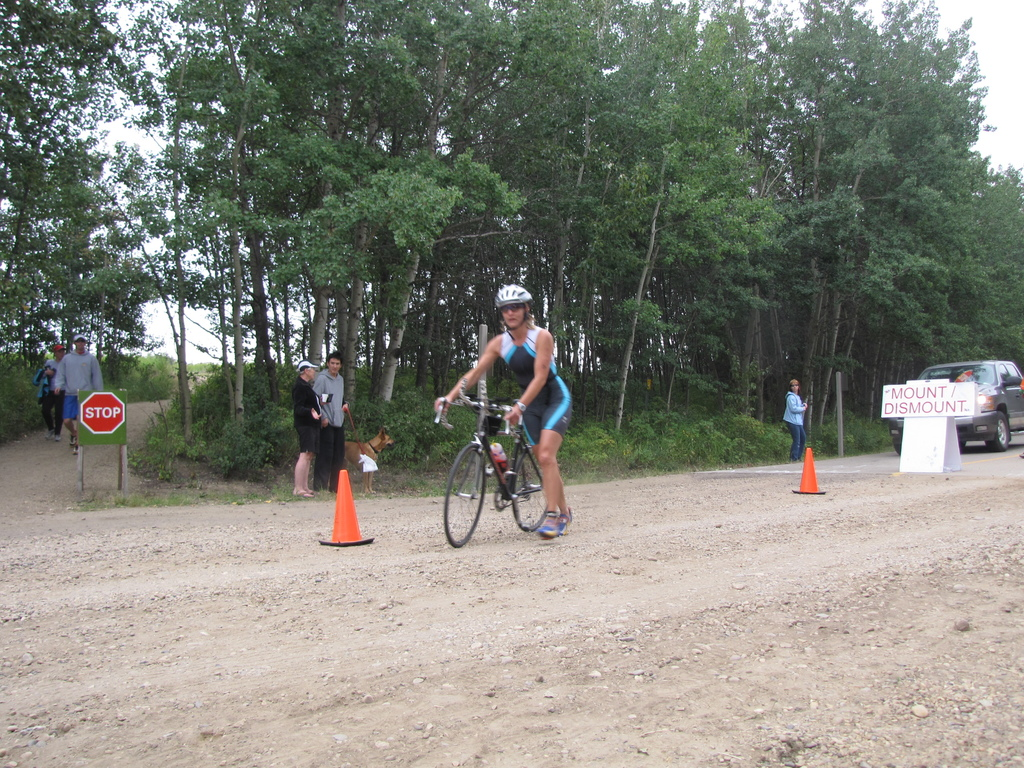Bike: (431, 394, 578, 544)
